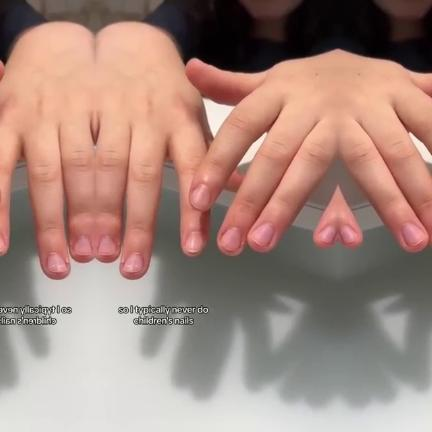Nail: (250, 223, 273, 246), (401, 223, 424, 246), (219, 227, 241, 251), (189, 185, 209, 210), (121, 254, 142, 273), (46, 254, 67, 273), (184, 232, 203, 252), (317, 225, 336, 244), (97, 237, 116, 256), (338, 225, 357, 244), (72, 237, 91, 256), (0, 235, 4, 252)
